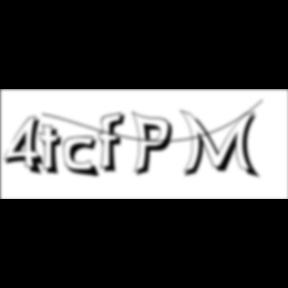4: (3, 115, 50, 179)
M: (180, 108, 264, 181)
P: (132, 110, 180, 180)
c: (64, 136, 104, 180)
f: (98, 111, 132, 175)
t: (38, 124, 70, 179)
